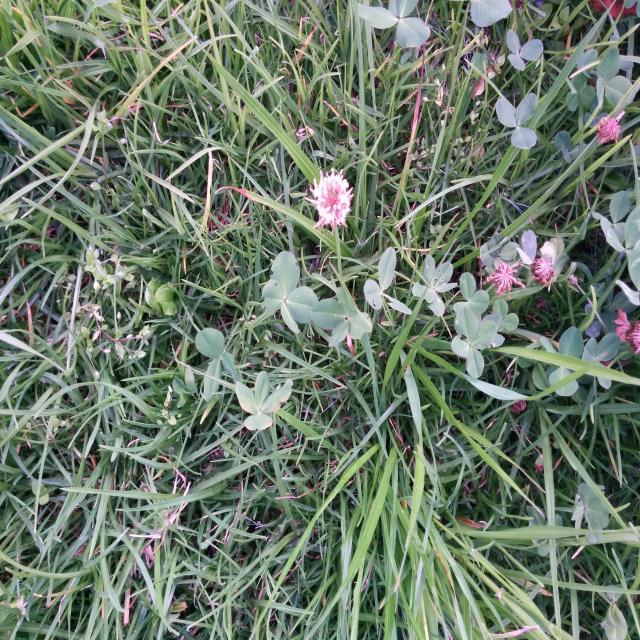Four Leaf Clover: (261, 255, 311, 332), (313, 287, 372, 347), (235, 372, 293, 430), (413, 255, 457, 316), (451, 320, 494, 378)
